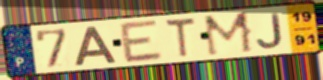7: (34, 26, 69, 69)
A: (73, 25, 119, 67)
E: (118, 18, 166, 65)
J: (255, 12, 286, 50)
M: (202, 10, 256, 58)
T: (163, 16, 197, 60)
